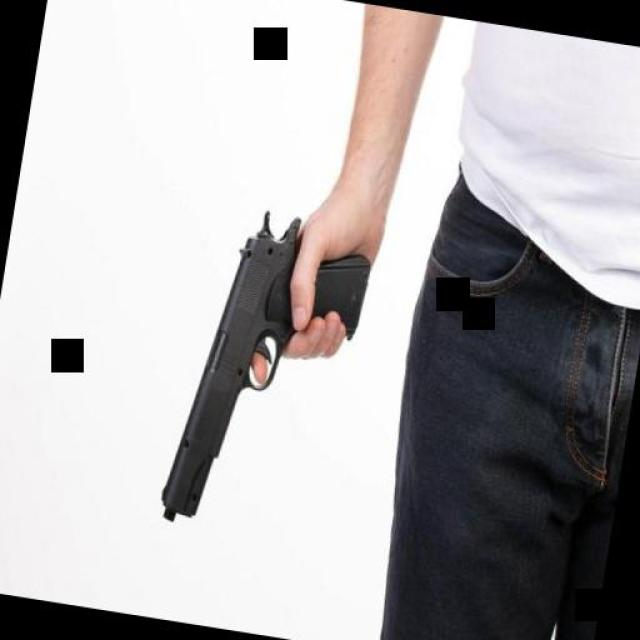gun: (154, 198, 380, 548)
